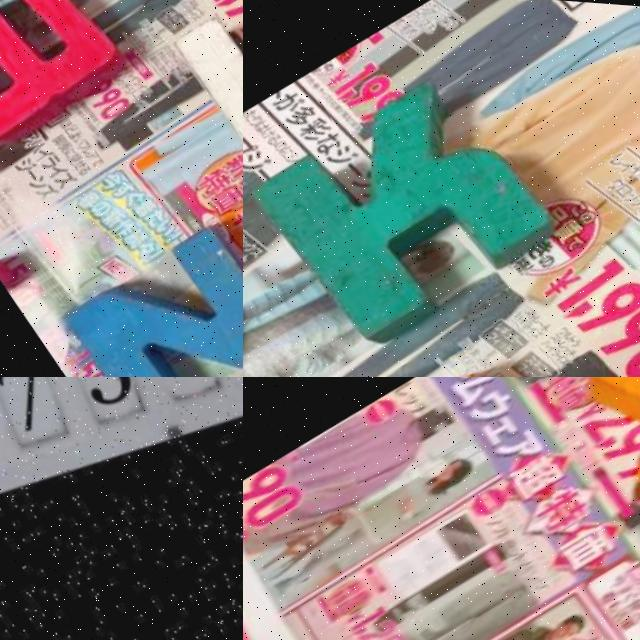5: (32, 377, 154, 427)
7: (0, 377, 76, 449)
H: (159, 0, 243, 173)
K: (243, 53, 563, 362)
L: (381, 269, 640, 377)
N: (45, 203, 243, 377)
W: (0, 0, 136, 178)
X: (563, 377, 640, 500)
